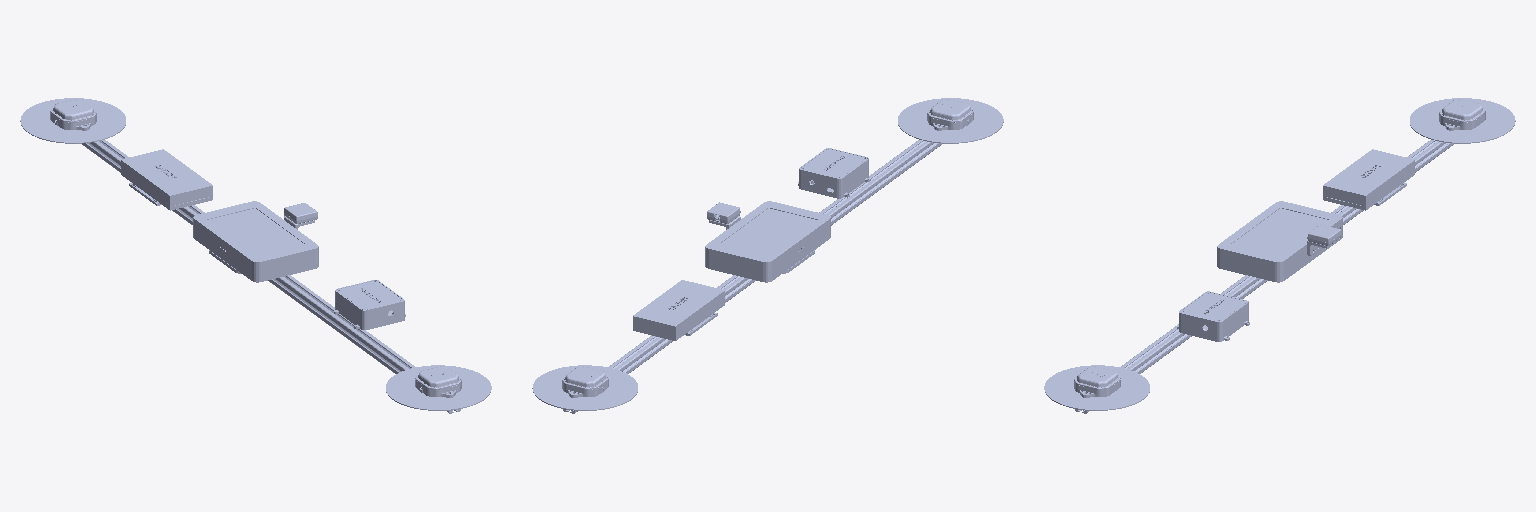
robot.urdf — proto_pkg:
<?xml version="1.0" encoding="utf-8"?>
<!-- This URDF was automatically created by SolidWorks to URDF Exporter! Originally created by [author] ([email redacted]) 
     Commit Version: 1.6.0-4-g7f85cfe  Build Version: 1.6.7995.38578
     For more information, please see http://wiki.ros.org/sw_urdf_exporter -->
<robot
  name="proto_pkg">
  <link
    name="base_link">
    <inertial>
      <origin
        xyz="0.00228078676420934 0.0393894166894618 -0.00833190683825412"
        rpy="0 0 0" />
      <mass
        value="1.60409787013163" />
      <inertia
        ixx="0.0313574851242788"
        ixy="5.80519164590616E-06"
        ixz="-5.34231711924494E-07"
        iyy="0.00126850441212243"
        iyz="-5.10788430666222E-07"
        izz="0.032423529498636" />
    </inertial>
    <visual>
      <origin
        xyz="0 0 0"
        rpy="0 0 0" />
      <geometry>
        <mesh
          filename="package://proto_pkg/meshes/base_link.STL" />
      </geometry>
      <material
        name="">
        <color
          rgba="0.792156862745098 0.819607843137255 0.933333333333333 1" />
      </material>
    </visual>
    <collision>
      <origin
        xyz="0 0 0"
        rpy="0 0 0" />
      <geometry>
        <mesh
          filename="package://proto_pkg/meshes/base_link.STL" />
      </geometry>
    </collision>
  </link>
</robot>

--- What the picture shows (computed from the rendered views, not written in the file) ---
The picture shows the robot from 3 angles, left to right: view 1: azimuth 30°, elevation 25°; view 2: azimuth 150°, elevation 25°; view 3: azimuth 330°, elevation 25°; orthographic projection.
Robot: proto_pkg — 1 links, 0 joints (none); root link base_link; default pose: all joints at 0.
Links seen in each view (by area): view 1: base_link; view 2: base_link; view 3: base_link.
Link boxes in pixels (x1,y1,x2,y2): base_link: [20, 98, 491, 413]; base_link: [532, 98, 1003, 413]; base_link: [1044, 98, 1515, 413].
Bounding box of the posed robot: 0.1766 × 1.26 × 0.0776 m (x, y, z).
1 mesh visuals loaded from 1 distinct referenced files (1 binary STL).